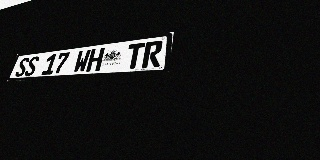plate: (7, 32, 174, 81)
